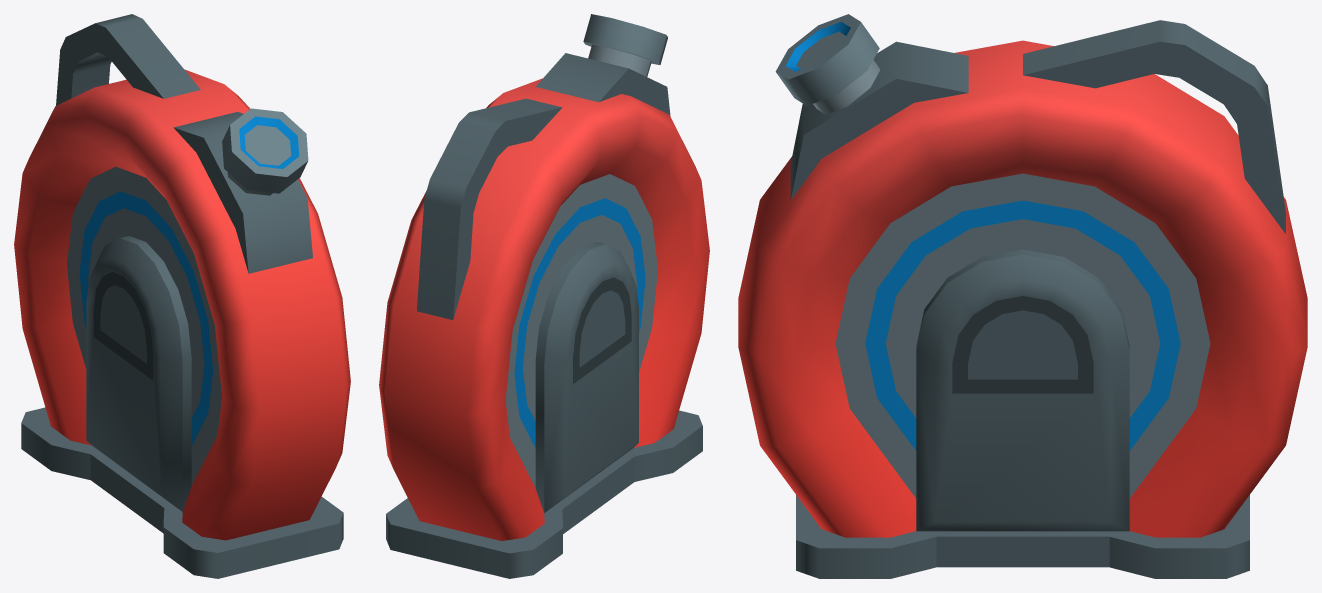
Rendered from Gas_can_012.fbx.
3 views of the same model, side by side, from view 1: azimuth 30°, elevation 25°; view 2: azimuth 150°, elevation 25°; view 3: azimuth 270°, elevation 25° (orthographic). The views are drawn at different scales.
Visible parts, largest first — view 1: Gas_can_012; view 2: Gas_can_012; view 3: Gas_can_012.
Part boxes in pixels (x1,y1,x2,y2): Gas_can_012: (14,14,350,578); Gas_can_012: (379,14,709,578); Gas_can_012: (738,14,1307,578).
Size of the model in its own units: 23.94 by 66.7 by 66.42.
